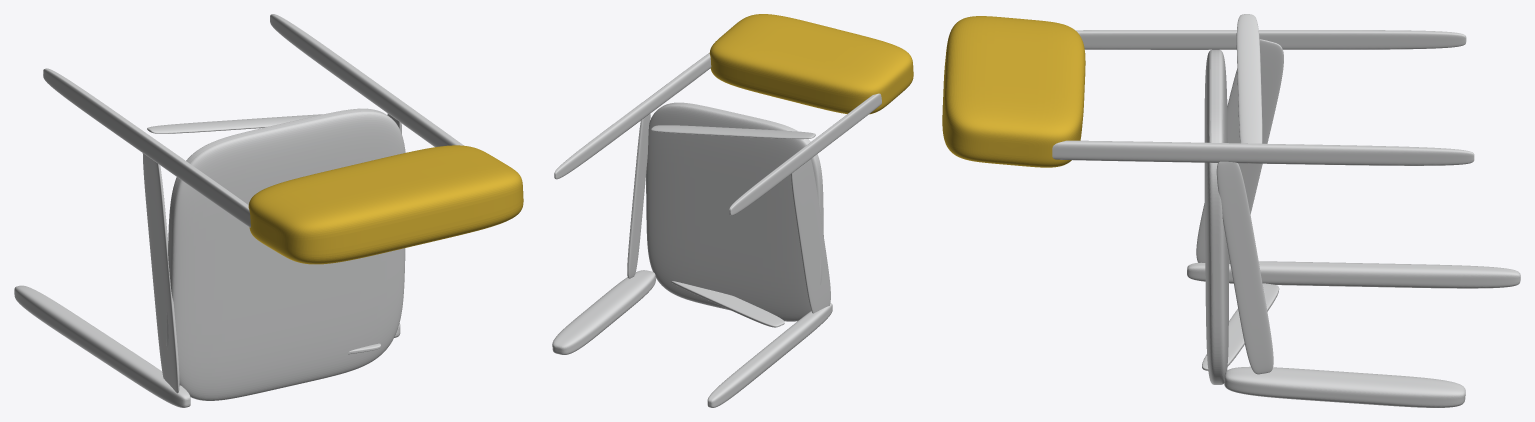
File: 21_wood_chair_with_straight_legs_and_a_cushioned_seat.glb
3 views of the same model, side by side, from view 1: azimuth 30°, elevation 25°; view 2: azimuth 150°, elevation 25°; view 3: azimuth 270°, elevation 25° (orthographic). The views are drawn at different scales.
Visible parts, largest first — view 1: superquadric_8, superquadric_7, superquadric_5, superquadric_3, superquadric_4, superquadric_1, superquadric_2; view 2: superquadric_8, superquadric_7, superquadric_4, superquadric_0, superquadric_5, superquadric_1, superquadric_3, superquadric_9, superquadric_2, superquadric_6; view 3: superquadric_7, superquadric_1, superquadric_0, superquadric_3, superquadric_8, superquadric_5, superquadric_9, superquadric_4, superquadric_2, superquadric_6.
Part boxes in pixels (x1,y1,x2,y2): superquadric_8: (166, 108, 405, 400); superquadric_7: (248, 145, 523, 264); superquadric_5: (14, 285, 190, 407); superquadric_3: (43, 68, 250, 227); superquadric_4: (142, 153, 179, 393); superquadric_1: (270, 14, 463, 146); superquadric_2: (147, 114, 322, 133); superquadric_8: (646, 102, 823, 321); superquadric_7: (709, 14, 913, 114); superquadric_4: (791, 159, 830, 313); superquadric_0: (552, 270, 655, 354); superquadric_5: (707, 303, 832, 407); superquadric_1: (554, 52, 711, 179); superquadric_3: (729, 93, 881, 215); superquadric_9: (627, 114, 650, 278); superquadric_2: (651, 125, 815, 139); superquadric_6: (671, 281, 784, 327); superquadric_7: (942, 16, 1085, 167); superquadric_1: (1052, 140, 1474, 165); superquadric_0: (1224, 366, 1465, 407); superquadric_3: (1075, 30, 1466, 49); superquadric_8: (1204, 49, 1228, 384); superquadric_5: (1187, 261, 1520, 288); superquadric_9: (1216, 161, 1273, 374); superquadric_4: (1196, 39, 1283, 263); superquadric_2: (1236, 14, 1262, 143); superquadric_6: (1202, 283, 1279, 370).
Size of the model in its own units: 0.5108 by 0.5433 by 1.
